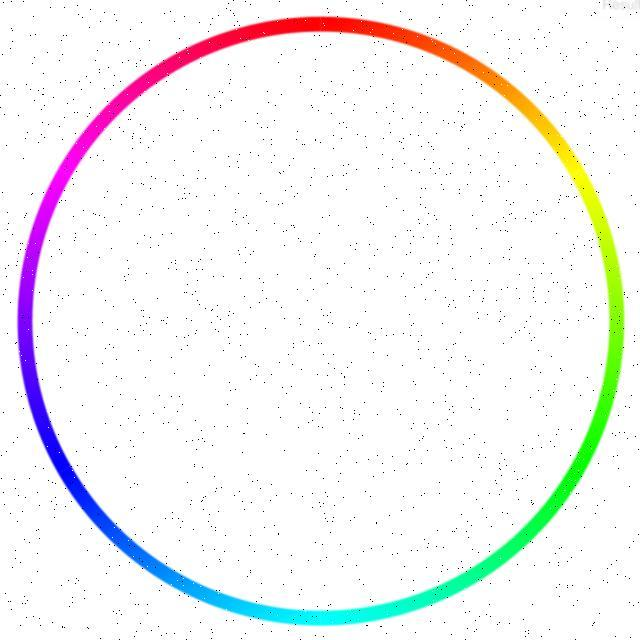Circle: (17, 17, 624, 626)
